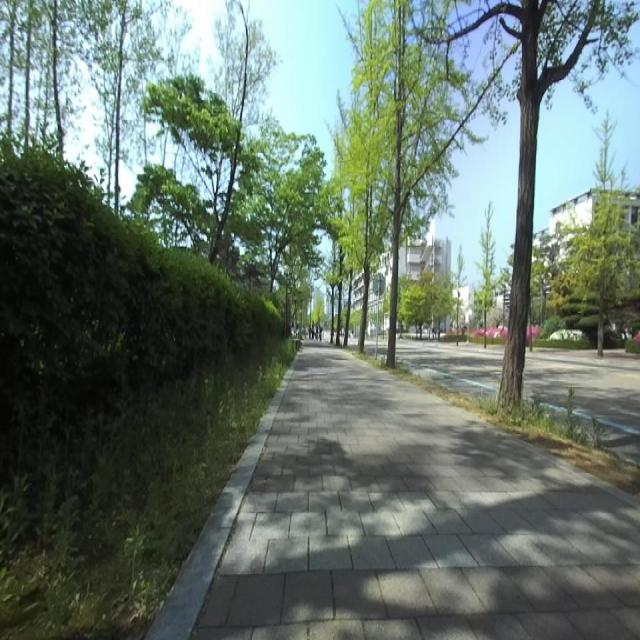sidewalk: (194, 342, 640, 639), (146, 354, 298, 640)
